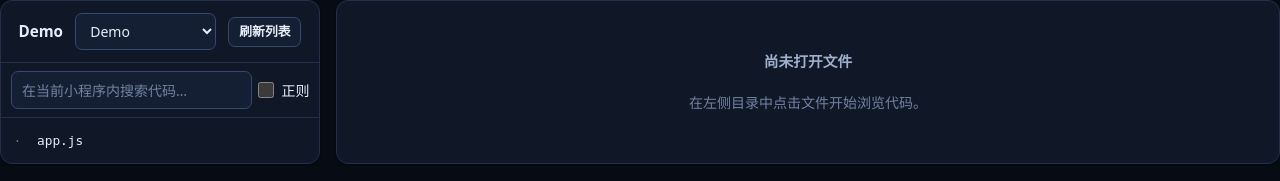
CodeBrowserView › keeps the audit surface focused and omits destructive format actions
Click the button with test id "tree-C__out_app_js".
click(60, 140)  # box [7,125,313,156]
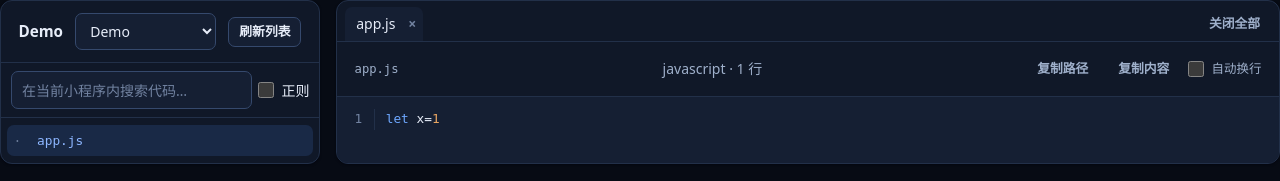
Result: the button with test id "copy-file-path" is shown at [1026,54,1099,84]
